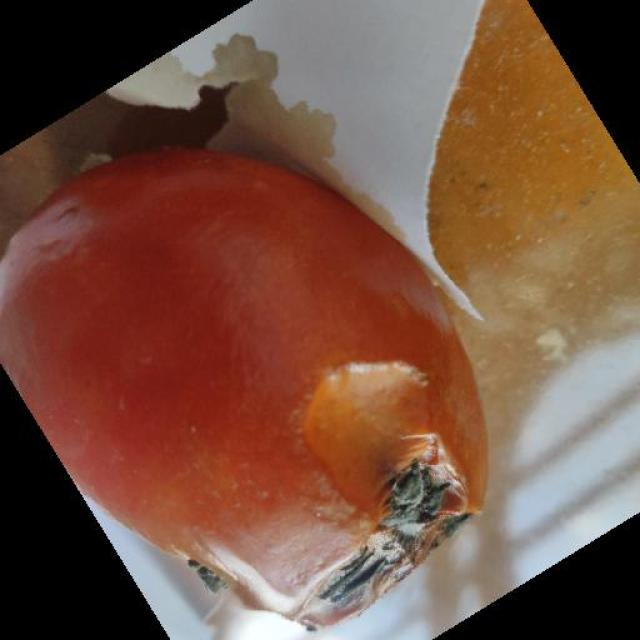Stale_tomato: (0, 177, 500, 605)
